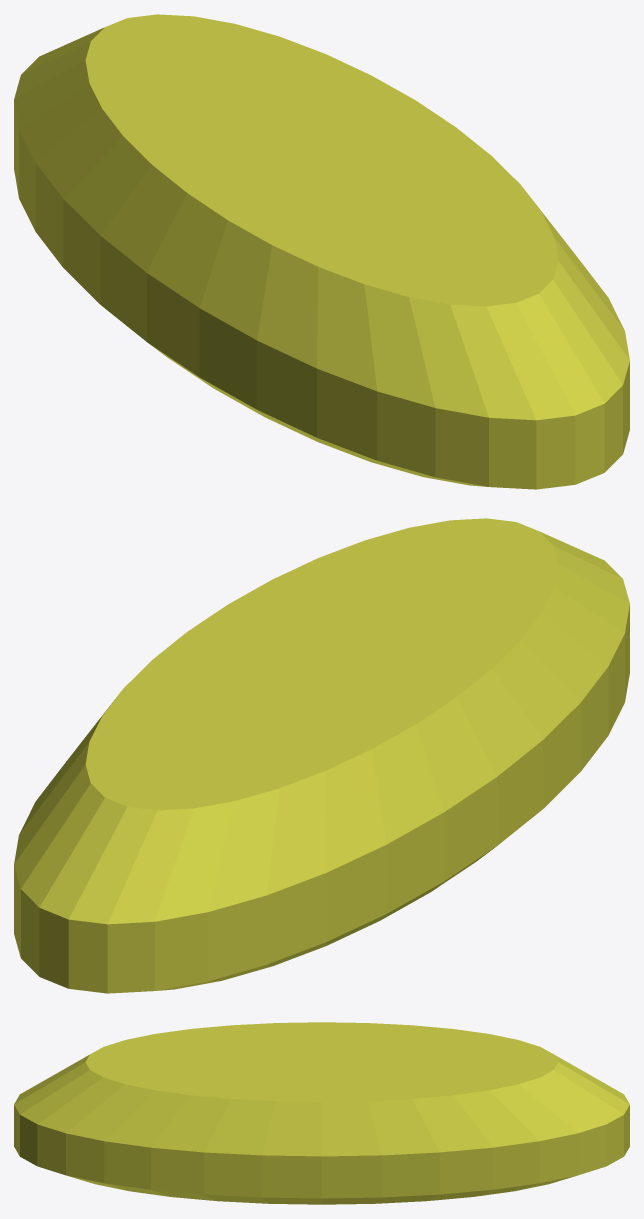
File: Ramie2.obj
3 renders of one model, top to bottom at view 1: azimuth 30°, elevation 25°; view 2: azimuth 150°, elevation 25°; view 3: azimuth 270°, elevation 25°, orthographic. The views are drawn at different scales.
Visible parts, largest first — view 1: Cylinder; view 2: Cylinder; view 3: Cylinder.
Boxes of the visible parts, x1,y1,x2,y2 form: Cylinder: [14, 14, 629, 489]; Cylinder: [14, 518, 629, 993]; Cylinder: [14, 1022, 629, 1204].
Size of the model in its own units: 2 by 0.8669 by 5.01.
